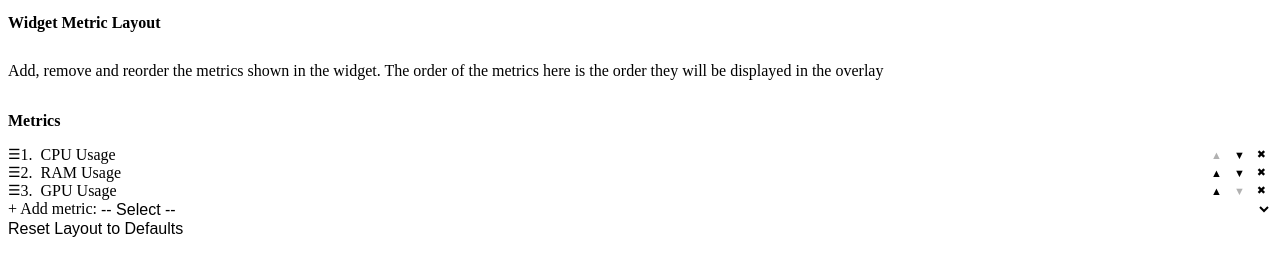
Test: LayoutPage.svelte › removes a metric when remove button is clicked
Click the button with class "btn-remove" in the row of "RAM Usage" at (1261, 172), box x1=1251 y1=164 x2=1272 y2=181
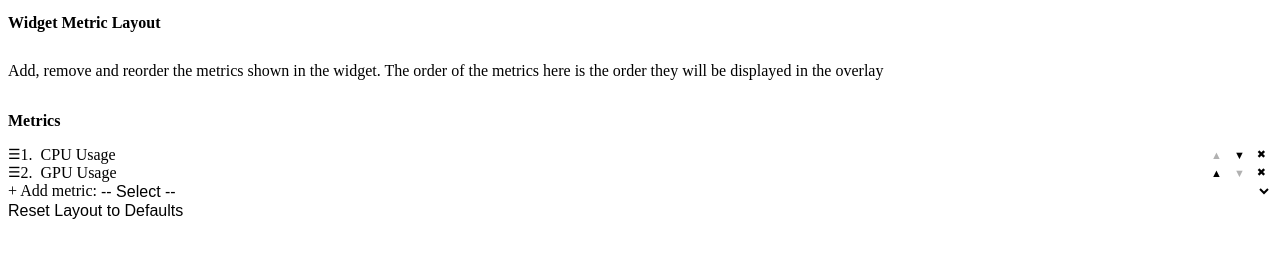
Now the number of elements with class "metric-name" is 2, box x1=41 y1=146 x2=116 y2=162; x1=41 y1=164 x2=117 y2=180
